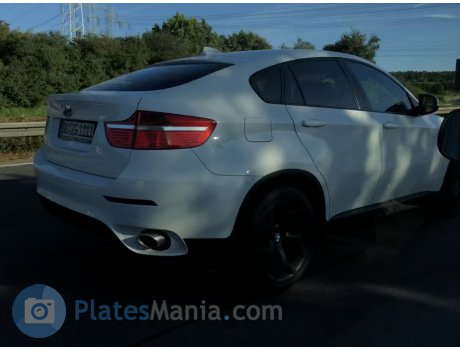License Plates: (54, 119, 99, 132)
